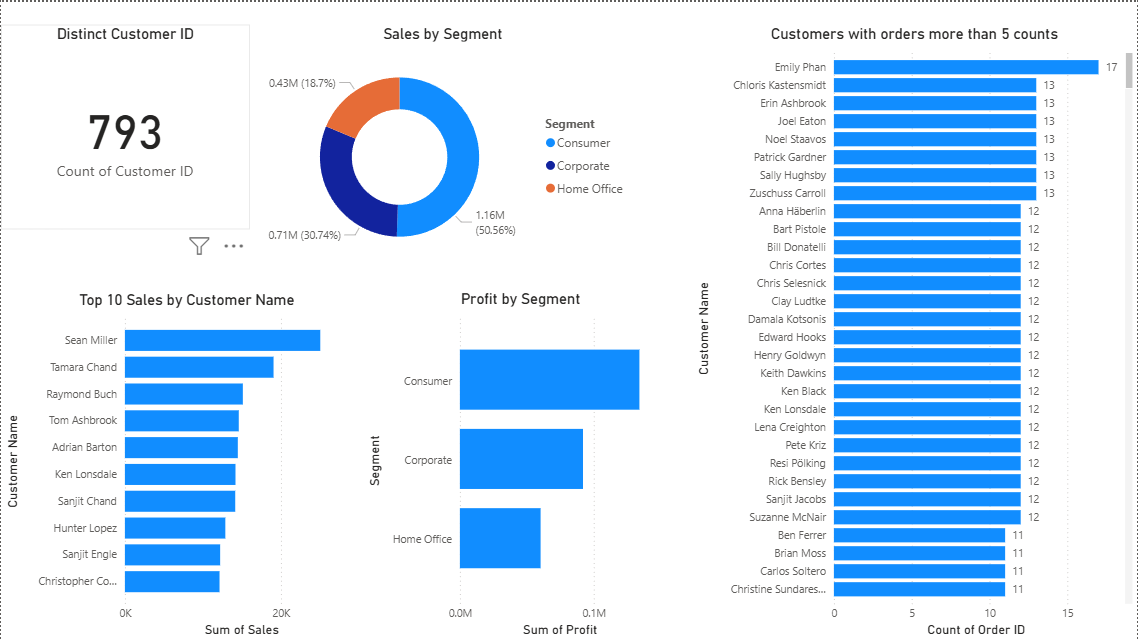

The page's visual inventory and layout, read from the dashboard file:
{"tool":"powerbi","page":{"name":"Sales by segment","canvas":[1280,720],"ordinal":2},"visuals":[{"type":"donutChart","title":"Sales by Segment","fields":{"Category":["Sample - Superstore.Segment"],"Y":["Sum(Sample - Superstore.Sales)"]},"box":[279.9,24.7,435,279.9],"z":0},{"type":"clusteredBarChart","title":"Top 10 Sales by Customer Name","fields":{"Category":["Sample - Superstore.Customer Name"],"Y":["Sum(Sample - Superstore.Sales)"]},"box":[0,325.2,418.5,395.2],"z":1000},{"type":"clusteredBarChart","title":"Profit by Segment","fields":{"Category":["Sample - Superstore.Segment"],"Y":["Sum(Sample - Superstore.Profit)"]},"box":[408.9,323.8,354,396.6],"z":2000},{"type":"card","title":"Distinct Customer ID","fields":{"Values":["Count(Sample - Superstore.Customer ID)"]},"box":[0,24.7,279.9,231.9],"z":3000},{"type":"clusteredBarChart","title":"Customers with orders more than 5 counts","fields":{"Category":["Sample - Superstore.Customer Name"],"Y":["Count(Sample - Superstore.Order ID)"]},"box":[779.4,24.7,500.9,695.7],"z":4000}]}

Visuals, with their boxes in screenshot pixels (x1, y1, x2, y2), scaled from the page's 1280x720 canvas onto the 1138x639 screenshot:
"Sales by Segment" donutChart: 249 22 636 270
"Top 10 Sales by Customer Name" clusteredBarChart: 0 289 372 638
"Profit by Segment" clusteredBarChart: 364 287 678 638
"Distinct Customer ID" card: 0 22 249 228
"Customers with orders more than 5 counts" clusteredBarChart: 693 22 1137 638
